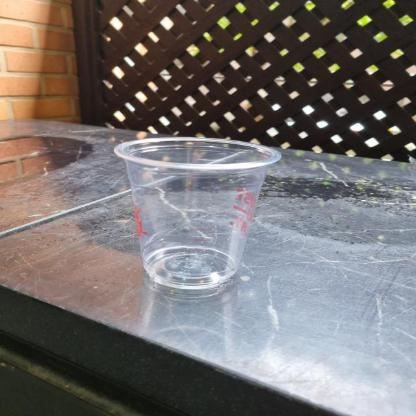Plastic Cup: (116, 132, 284, 290)
